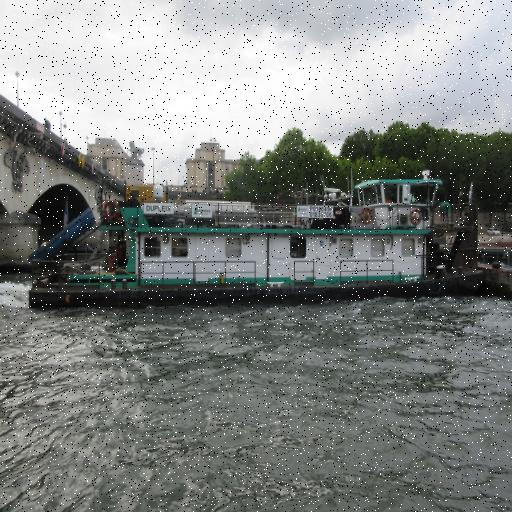tugboat: (24, 174, 501, 313)
